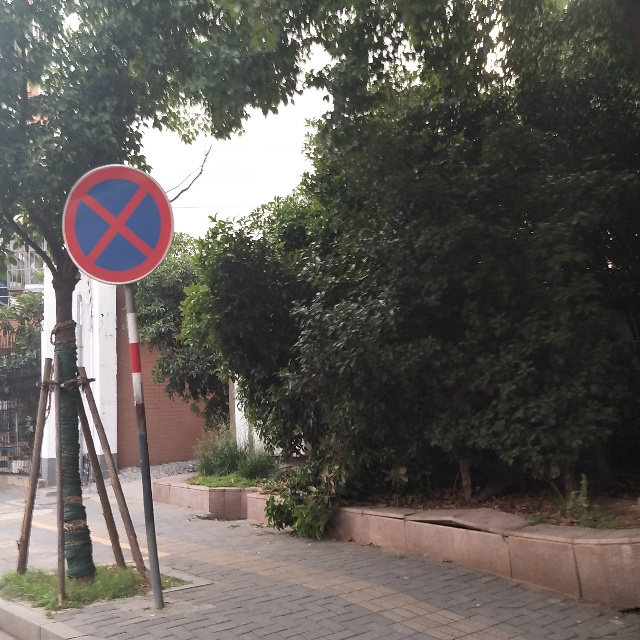stop: (66, 174, 171, 271)
